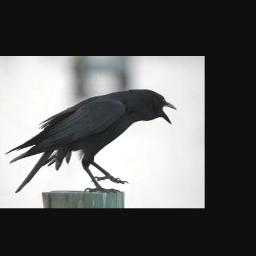Crow: (6, 88, 177, 195)
